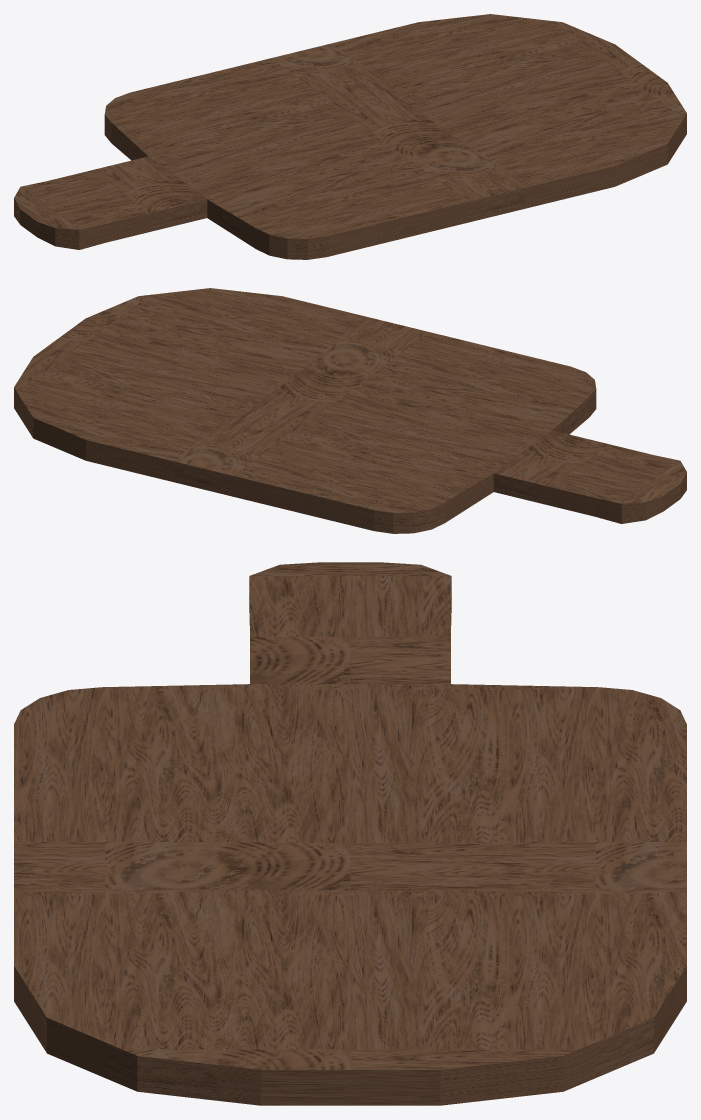
Rendered from kesme tahtası.fbx.
3 renders of one model, top to bottom at view 1: azimuth 30°, elevation 25°; view 2: azimuth 150°, elevation 25°; view 3: azimuth 270°, elevation 25°, orthographic. The views are drawn at different scales.
Visible parts, largest first — view 1: Cube; view 2: Cube; view 3: Cube.
Boxes of the visible parts, left/top/right/bottom form: Cube: left=14, top=14, right=686, bottom=259; Cube: left=14, top=288, right=686, bottom=533; Cube: left=14, top=562, right=686, bottom=1105.
Bounding box in the file's own units: 40.64 × 1.32 × 22.57.
